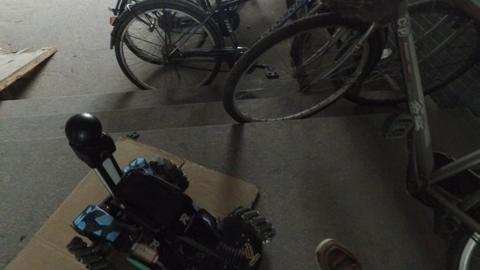chariot: (55, 112, 278, 267)
